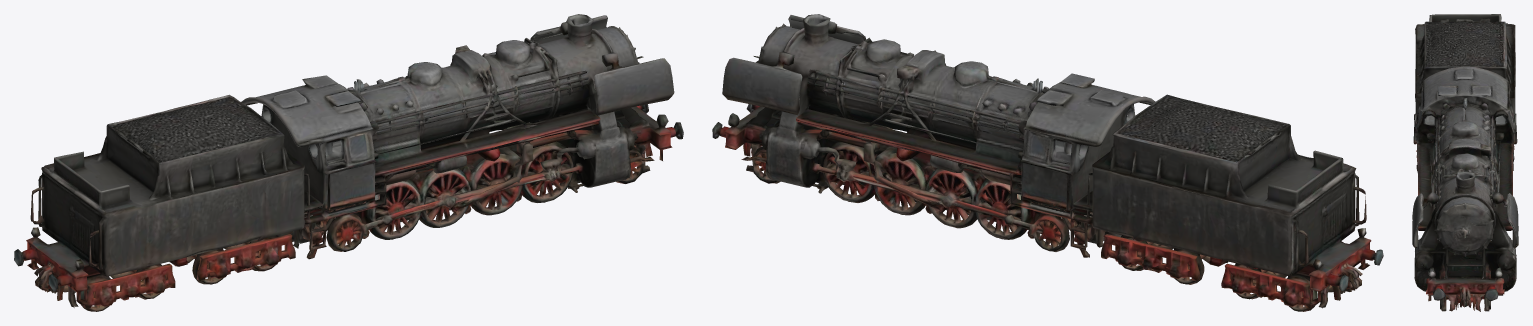
File: prop_locomotive.glb
The picture shows the model from 3 angles, left to right: view 1: azimuth 30°, elevation 25°; view 2: azimuth 150°, elevation 25°; view 3: azimuth 270°, elevation 25°; orthographic projection. The views are drawn at different scales.
Parts seen in each view (by area): view 1: tripo_node_27279fd0-92d2-4a57-8c11-0742d672a6b4; view 2: tripo_node_27279fd0-92d2-4a57-8c11-0742d672a6b4; view 3: tripo_node_27279fd0-92d2-4a57-8c11-0742d672a6b4.
Boxes of the visible parts, <box> form: tripo_node_27279fd0-92d2-4a57-8c11-0742d672a6b4: <box>14,14,683,311</box>; tripo_node_27279fd0-92d2-4a57-8c11-0742d672a6b4: <box>712,14,1383,311</box>; tripo_node_27279fd0-92d2-4a57-8c11-0742d672a6b4: <box>1412,14,1518,311</box>.
Size of the model in its own units: 0.9783 by 0.2413 by 0.1891.
Materials: 1 (1 with a texture image).
